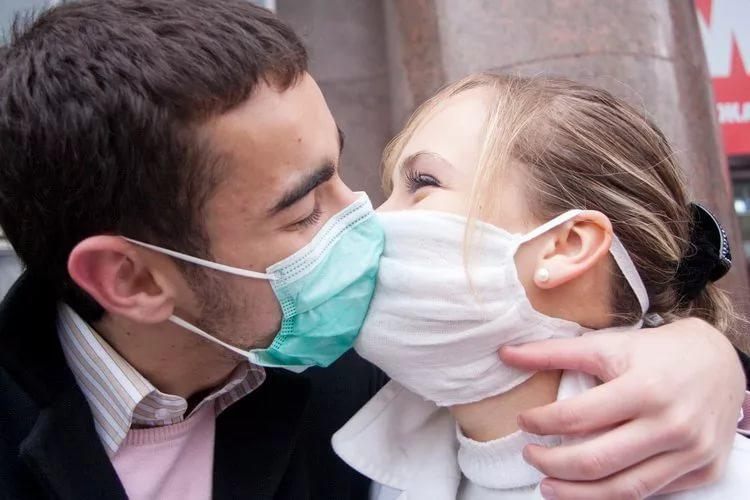mask: (358, 87, 556, 411), (213, 70, 376, 378)
